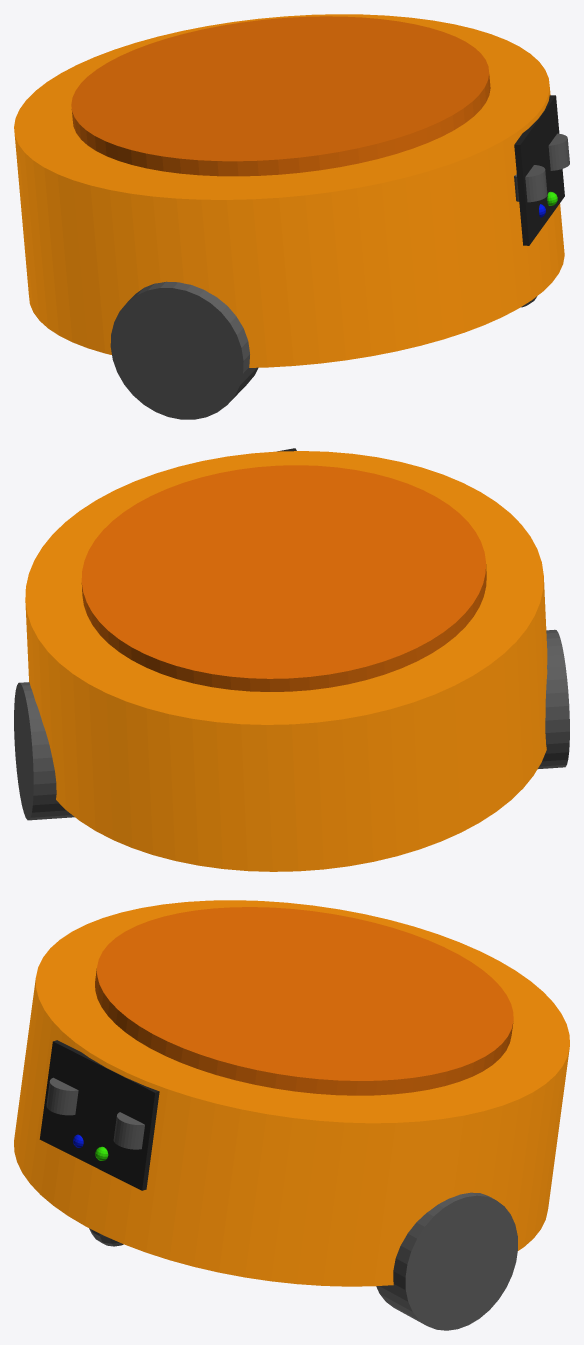
File: robo3d.glb
3 renders of one model, top to bottom at view 1: azimuth 30°, elevation 25°; view 2: azimuth 150°, elevation 25°; view 3: azimuth 270°, elevation 25°, orthographic. The views are drawn at different scales.
Parts seen in each view (by area): view 1: Cylinder, Cylinder.001, Cylinder.002, Cube, Cylinder.004, Cylinder.005; view 2: Cylinder, Cylinder.001, Cylinder.003, Cylinder.002; view 3: Cylinder, Cylinder.001, Cylinder.003, Cube, Cylinder.004, Cylinder.005.
Boxes of the visible parts, <box> form: Cylinder: <box>14,14,564,367</box>; Cylinder.001: <box>71,16,490,176</box>; Cylinder.002: <box>110,281,258,419</box>; Cube: <box>514,95,564,245</box>; Cylinder.004: <box>514,165,547,202</box>; Cylinder.005: <box>548,133,569,170</box>; Cylinder: <box>25,451,547,871</box>; Cylinder.001: <box>81,465,486,691</box>; Cylinder.003: <box>14,682,74,820</box>; Cylinder.002: <box>538,629,569,768</box>; Cylinder: <box>14,900,569,1286</box>; Cylinder.001: <box>95,907,513,1095</box>; Cylinder.003: <box>376,1192,517,1330</box>; Cube: <box>39,1040,159,1190</box>; Cylinder.004: <box>46,1077,78,1115</box>; Cylinder.005: <box>113,1112,144,1149</box>.
Size of the model in its own units: 0.3028 by 0.1625 by 0.3097.
